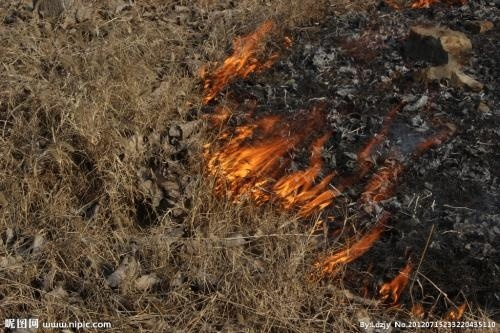fire: (193, 13, 338, 217), (202, 108, 335, 216), (196, 16, 292, 98), (312, 229, 380, 274), (380, 260, 416, 307), (445, 301, 467, 318)
